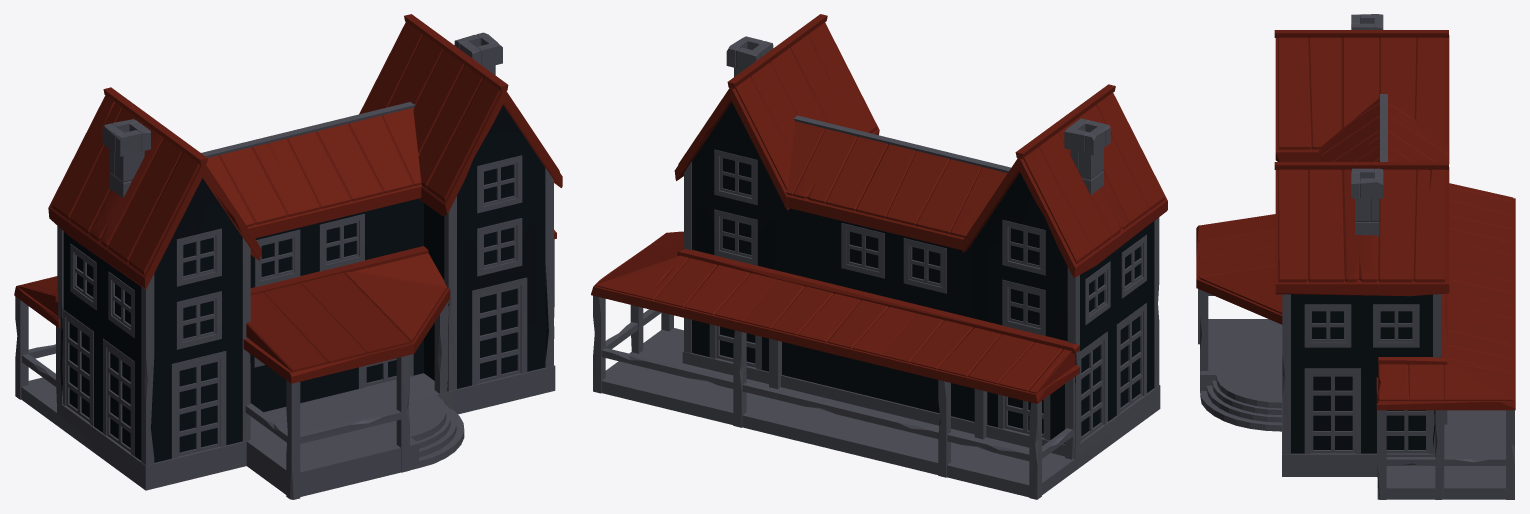
The model's file is House_7.fbx.
The picture shows the model from 3 angles, left to right: view 1: azimuth 30°, elevation 25°; view 2: azimuth 150°, elevation 25°; view 3: azimuth 270°, elevation 25°; orthographic projection. The views are drawn at different scales.
Parts seen in each view (by area): view 1: House_7; view 2: House_7; view 3: House_7.
Part boxes in pixels (x1,y1,x2,y2): House_7: (14,14,562,499); House_7: (591,14,1167,499); House_7: (1196,14,1515,499).
Size of the model in its own units: 451 by 296 by 296.
